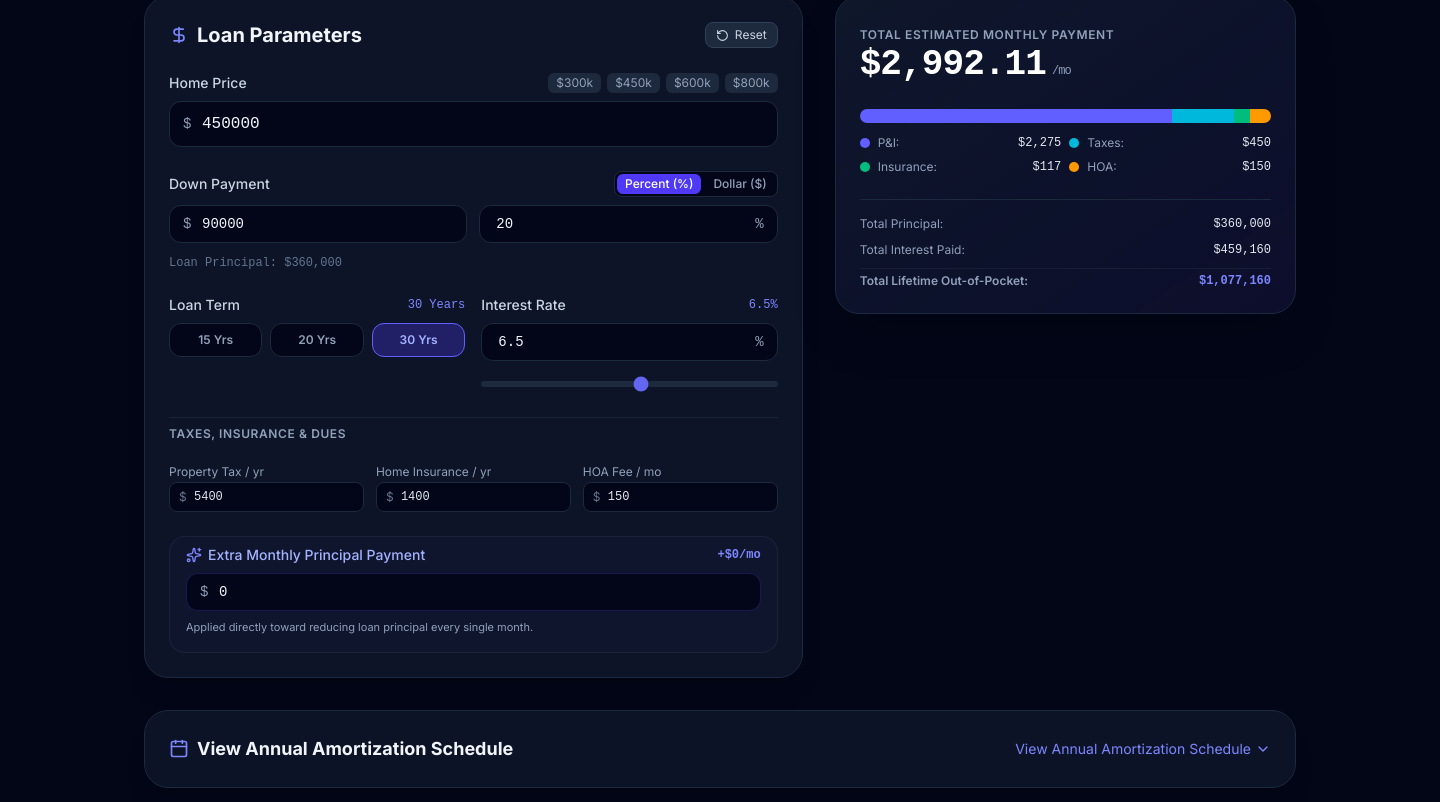
Test: OmniCalc Acceptance Test Suite (Stories S-1 to S-7) › Story S-4: Extra Principal & Amortization › toggles the Annual Amortization Schedule displaying Year, Principal, Interest, Cumulative Interest, and Remaining Balance
Click the button "View Annual Amortization Schedule" at (355, 748), box x1=169 y1=734 x2=1271 y2=762
(page scrolled)
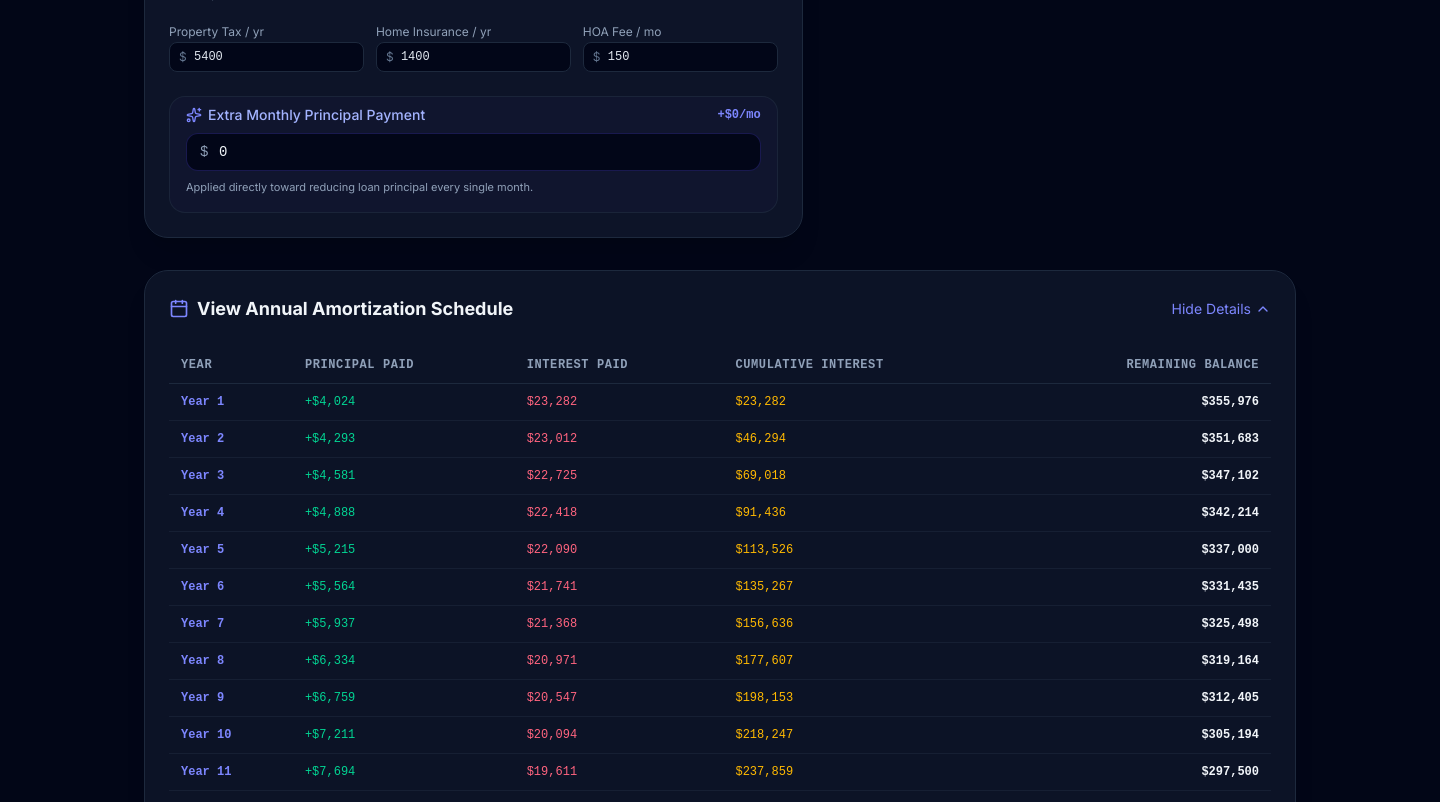
Expected: the column heading "Year" is shown, x1=169 y1=346 x2=293 y2=383
Expected: the column heading "Principal Paid" is shown, x1=293 y1=346 x2=515 y2=383
Expected: the column heading "Interest Paid" is shown, x1=515 y1=346 x2=724 y2=383
